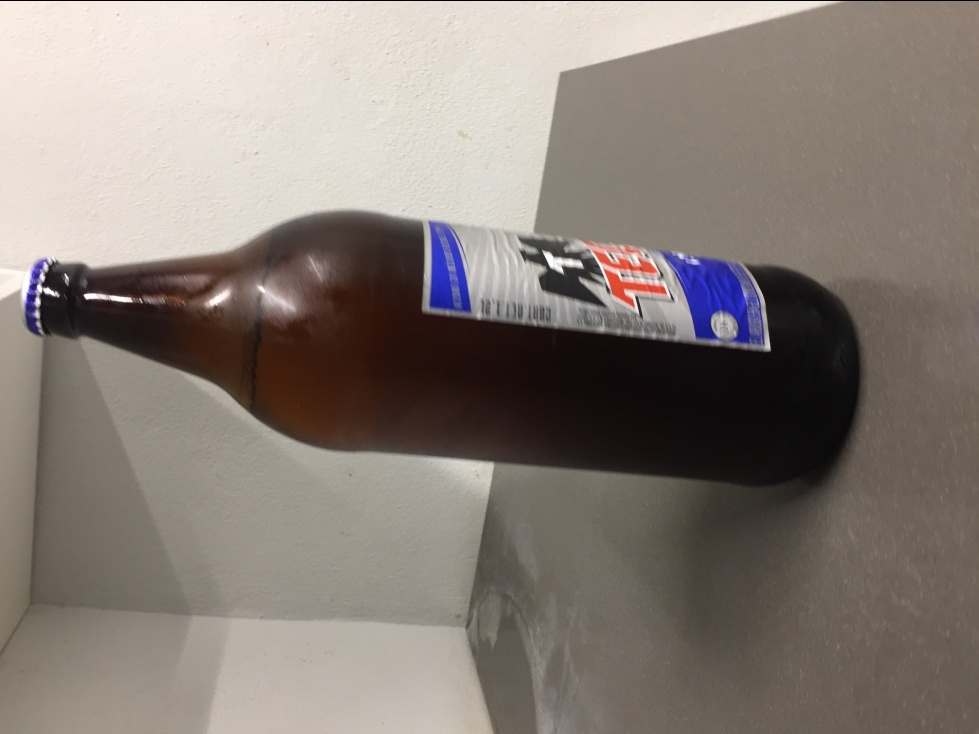tecateC: (25, 206, 857, 483)
